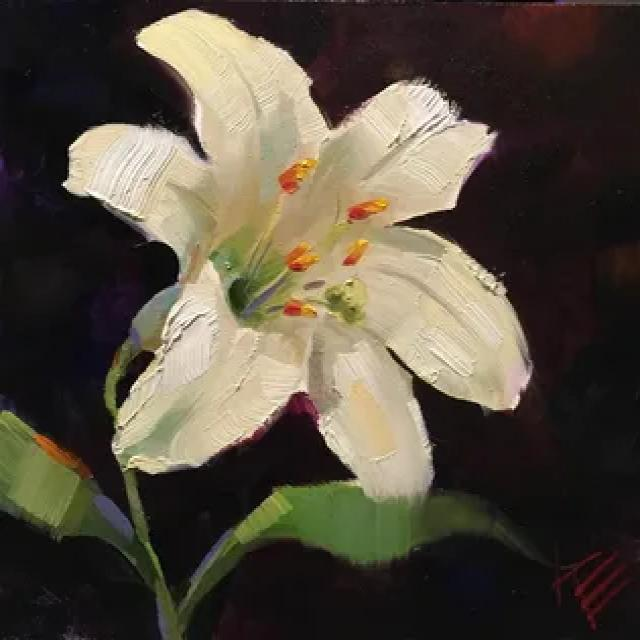lily: (48, 0, 562, 513)
